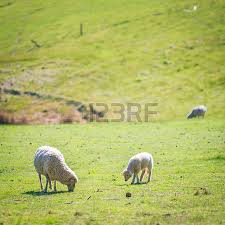sheep: (35, 148, 75, 192), (123, 150, 153, 187), (188, 103, 209, 121)
